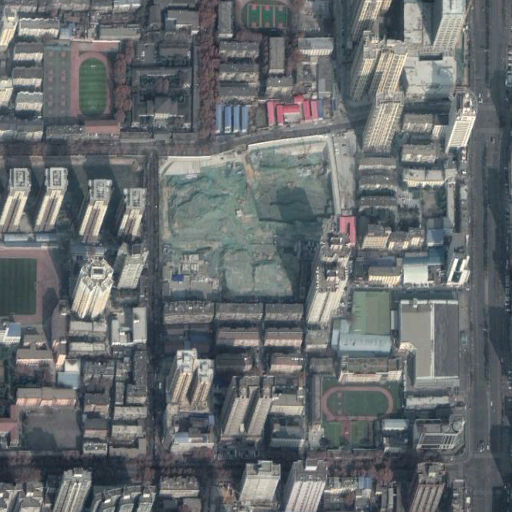cw: (164, 137, 338, 302)
